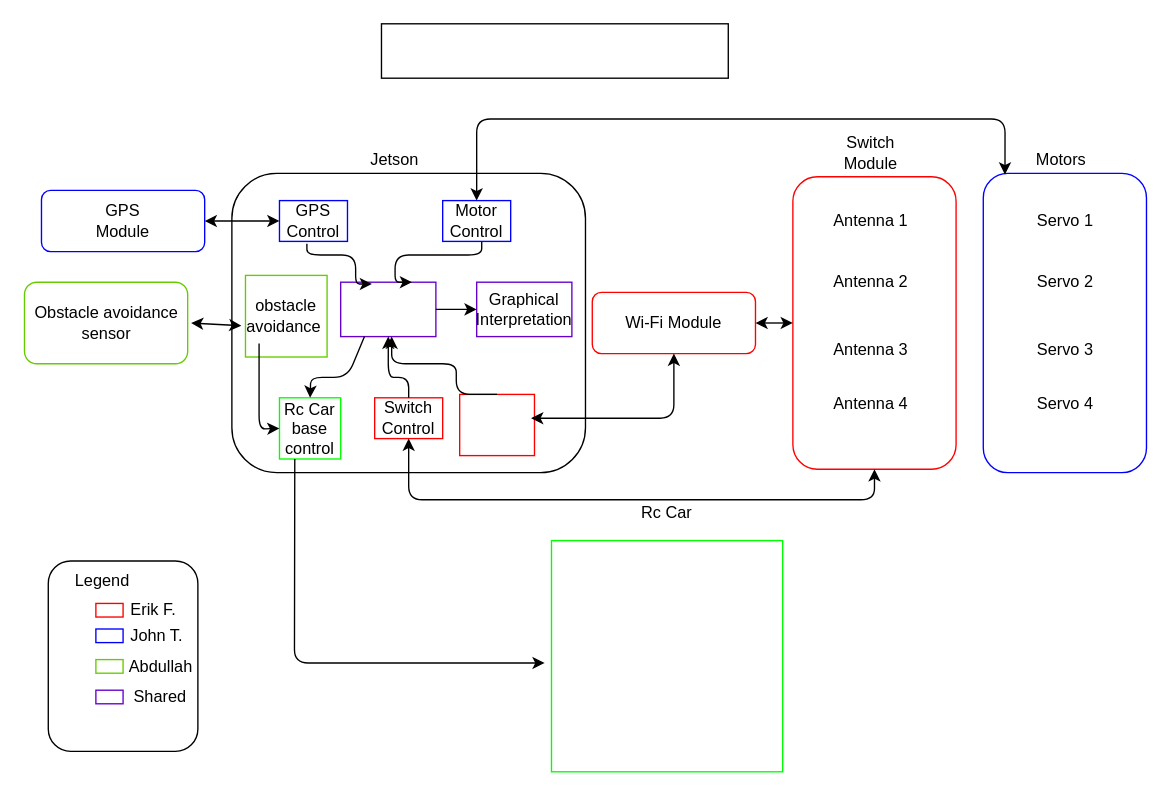
This 1170x796 diagram has some shape labels left out. Here are the shapes that lost their labels. From the top down, the centre of each, then its label:
At (554,50): "System Level Design".
At (387,309): "Localization Calculations".
At (496,424): "Wi-Fi Module Control".
At (666,655): "Motors PWM controller".
